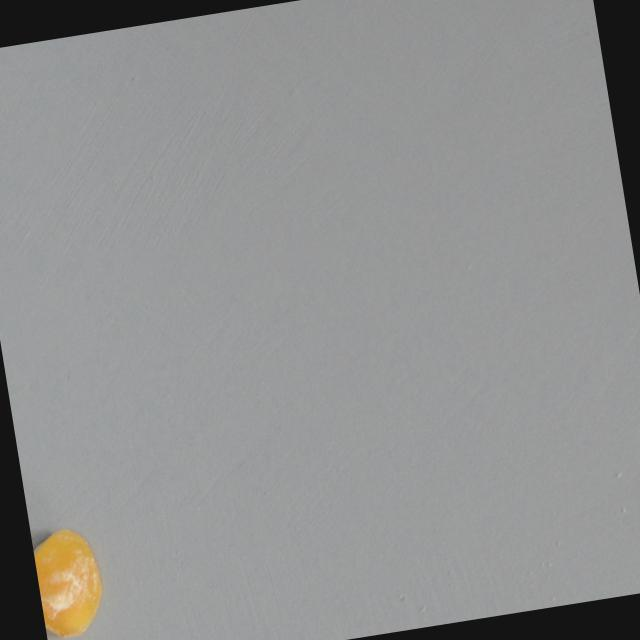pelicula: (31, 529, 115, 640)
